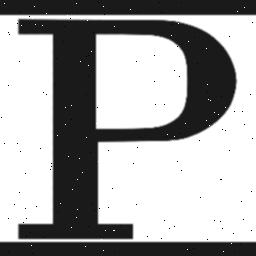p: (11, 14, 241, 242)
